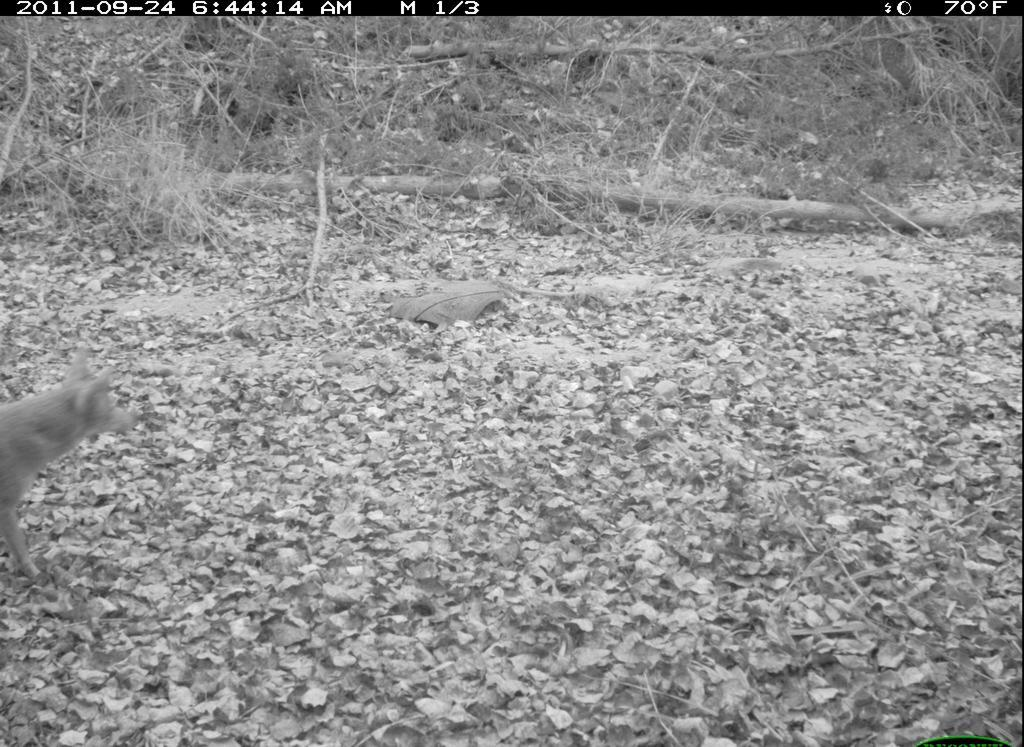coyote: (1, 341, 146, 586)
